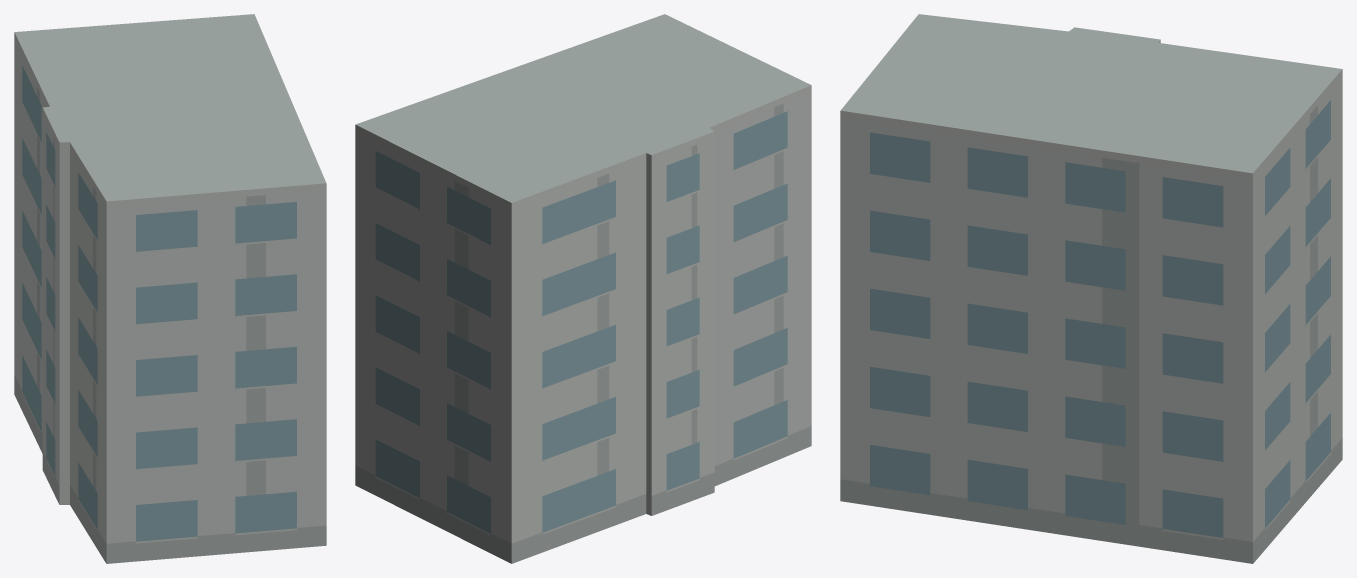
File: survey-upis-32529578.glb
3 renders of one model, left to right at view 1: azimuth 30°, elevation 25°; view 2: azimuth 150°, elevation 25°; view 3: azimuth 270°, elevation 25°, orthographic. The views are drawn at different scales.
Visible parts, largest first — view 1: survey-upis-32529578.tmp; view 2: survey-upis-32529578.tmp; view 3: survey-upis-32529578.tmp.
Part boxes in pixels (x1,y1,x2,y2): survey-upis-32529578.tmp: [14, 14, 326, 563]; survey-upis-32529578.tmp: [355, 14, 811, 563]; survey-upis-32529578.tmp: [840, 14, 1342, 563].
Bounding box in the file's own units: 11.39 × 13 × 15.16.
